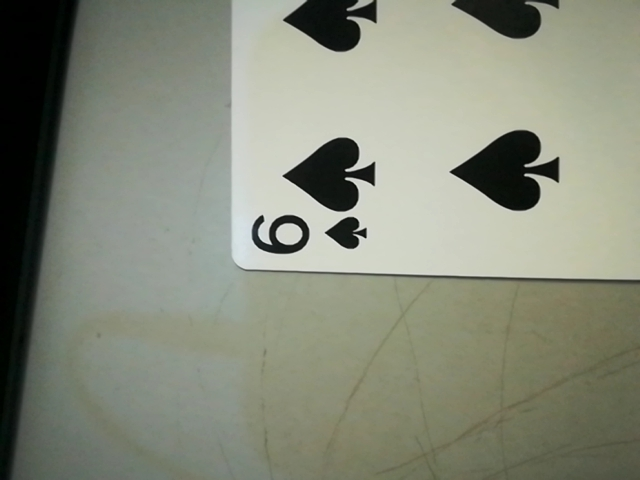ht 6: (240, 197, 382, 271)
